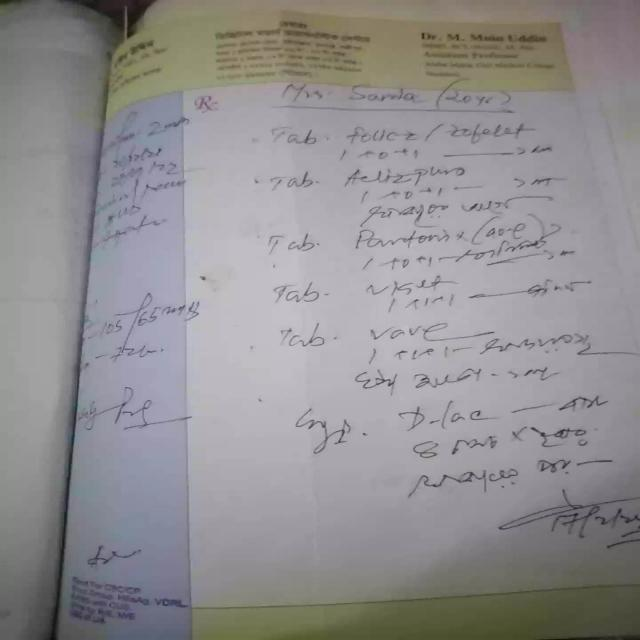Acliz Plus: (346, 166, 478, 190)
D-Lac: (391, 405, 494, 433)
Folic Z: (336, 124, 423, 151)
Pantonix: (349, 223, 470, 247)
Vave: (367, 322, 456, 346)
Viset: (353, 274, 451, 298)
